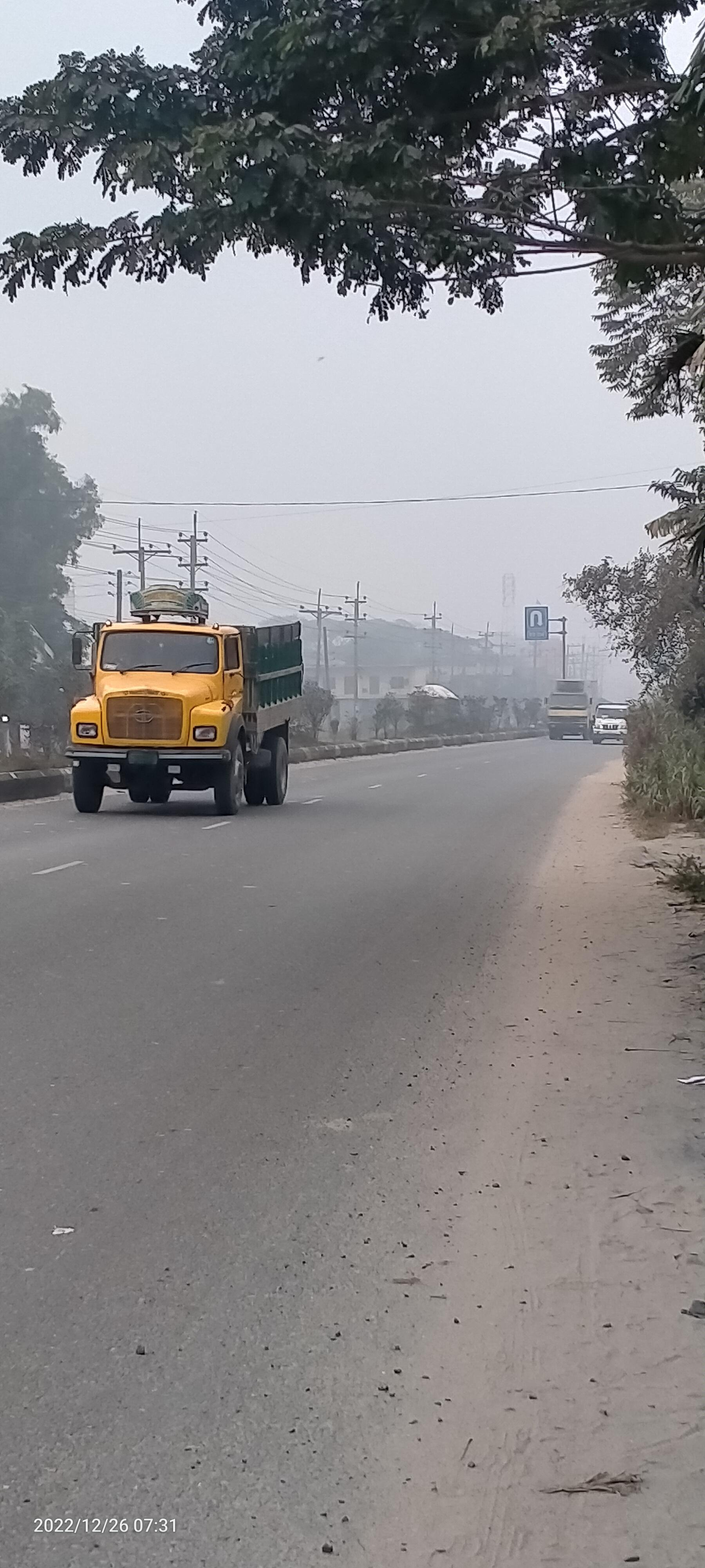Truck: (52, 576, 307, 831), (540, 676, 596, 743), (591, 695, 638, 758)
